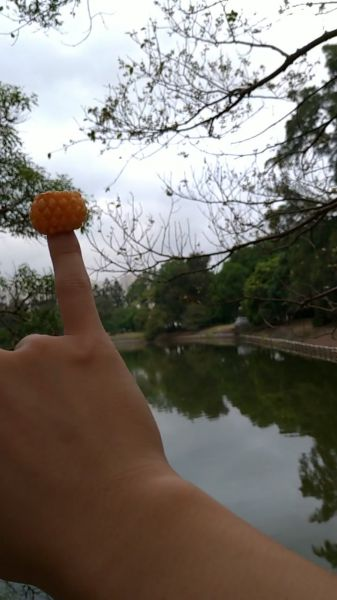eggs: (30, 190, 89, 234)
